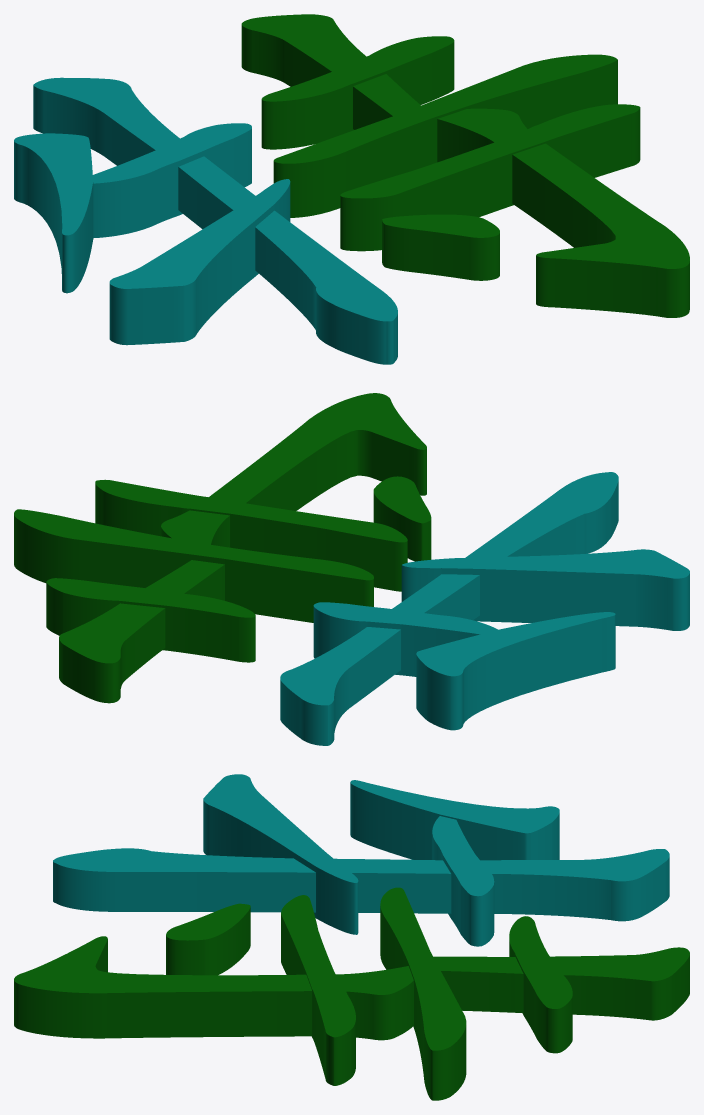
Rendered from hanzi188.fbx.
3 renders of one model, top to bottom at view 1: azimuth 30°, elevation 25°; view 2: azimuth 150°, elevation 25°; view 3: azimuth 270°, elevation 25°, orthographic. The views are drawn at different scales.
Visible parts, largest first — view 1: Curve.002, Curve.008, Curve.006, Curve.007, Curve.003, Curve.004, Curve.001, Curve.005, Curve, Curve.009; view 2: Curve.002, Curve.006, Curve.003, Curve.008, Curve, Curve.007, Curve.005, Curve.004, Curve.001, Curve.009; view 3: Curve.002, Curve.008, Curve.005, Curve, Curve.003, Curve.006, Curve.007, Curve.004, Curve.001, Curve.009.
Boxes of the visible parts, bbox=[...] form: Curve.002: bbox=[33, 77, 397, 364]; Curve.008: bbox=[437, 108, 689, 317]; Curve.006: bbox=[273, 54, 617, 217]; Curve.007: bbox=[340, 104, 640, 251]; Curve.003: bbox=[109, 179, 290, 345]; Curve.004: bbox=[261, 36, 454, 149]; Curve.001: bbox=[93, 123, 251, 238]; Curve.005: bbox=[241, 14, 420, 129]; Curve: bbox=[14, 133, 93, 293]; Curve.009: bbox=[382, 214, 499, 280]; Curve.002: bbox=[280, 472, 618, 745]; Curve.006: bbox=[14, 509, 373, 622]; Curve.003: bbox=[401, 549, 689, 630]; Curve.008: bbox=[161, 393, 426, 547]; Curve: bbox=[416, 612, 615, 730]; Curve.007: bbox=[95, 479, 407, 591]; Curve.005: bbox=[59, 560, 224, 703]; Curve.004: bbox=[46, 578, 255, 662]; Curve.001: bbox=[313, 602, 497, 676]; Curve.009: bbox=[373, 476, 431, 561]; Curve.002: bbox=[53, 848, 669, 921]; Curve.008: bbox=[14, 936, 413, 1040]; Curve.005: bbox=[433, 947, 689, 1020]; Curve: bbox=[350, 780, 559, 860]; Curve.003: bbox=[203, 774, 358, 934]; Curve.006: bbox=[380, 887, 466, 1100]; Curve.007: bbox=[281, 895, 355, 1085]; Curve.004: bbox=[509, 916, 572, 1053]; Curve.001: bbox=[432, 816, 494, 946]; Curve.009: bbox=[166, 903, 250, 975].
Bounding box in the file's own units: 24.65 × 25.55 × 2.22.
